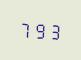nine: (33, 19, 46, 40)
seven: (18, 18, 31, 39)
three: (47, 20, 60, 41)
